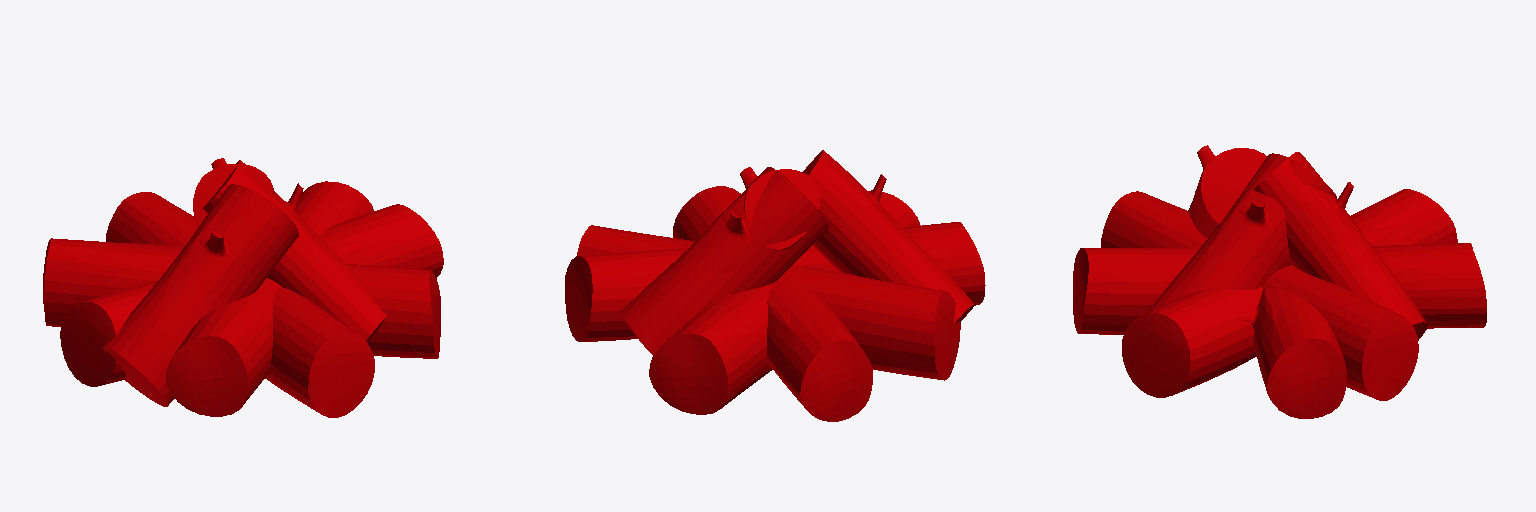
The model's file is logs.obj.
The picture shows the model from 3 angles: view 1: azimuth 30°, elevation 25°; view 2: azimuth 150°, elevation 25°; view 3: azimuth 270°, elevation 25°; orthographic projection.
Visible parts, largest first — view 1: low_poly_log.006; view 2: low_poly_log.006; view 3: low_poly_log.006.
Part boxes in pixels (x1,y1,x2,y2): low_poly_log.006: (43,158,443,417); low_poly_log.006: (565,150,985,421); low_poly_log.006: (1073,145,1486,418).
Bounding box in the file's own units: 257 × 125 × 254.